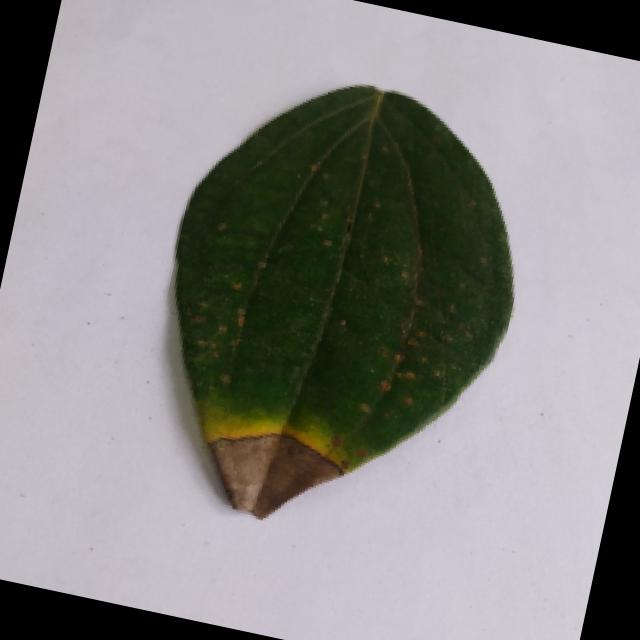footrot: (117, 49, 551, 564)
